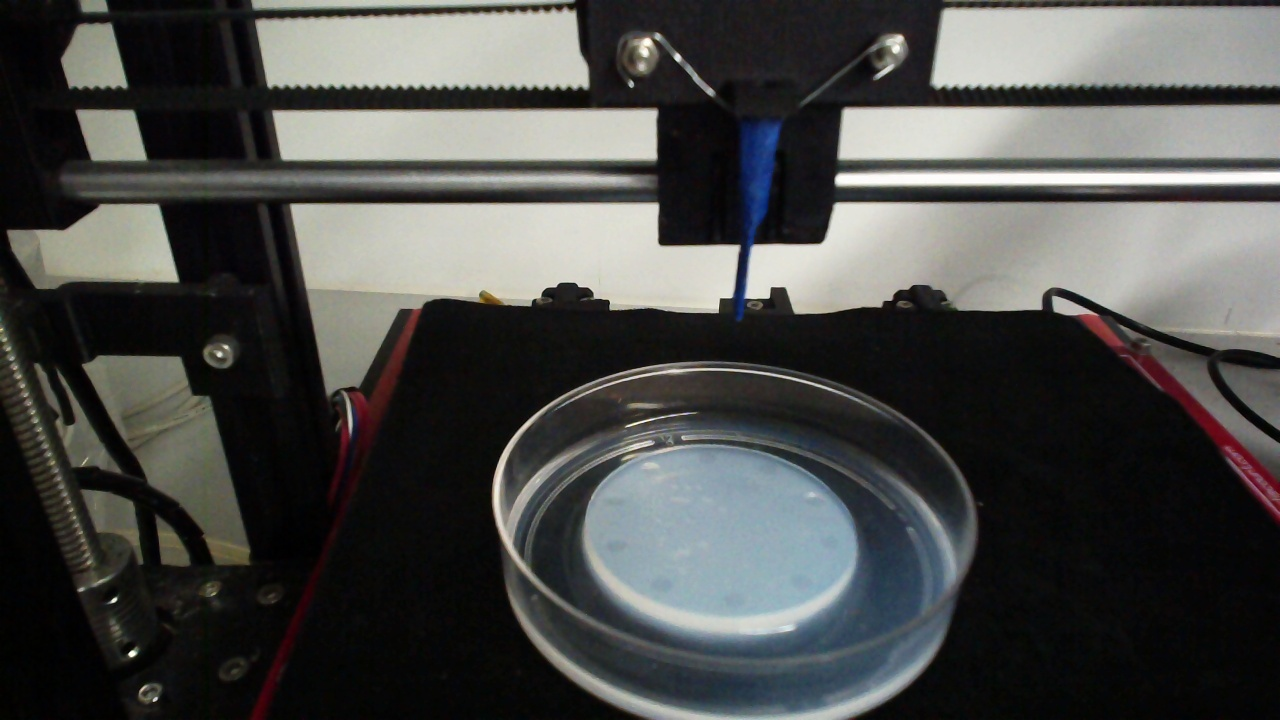groove: (647, 575, 676, 596), (601, 490, 627, 510), (788, 573, 813, 593), (722, 591, 746, 611), (754, 459, 781, 476), (804, 491, 826, 510), (604, 536, 627, 554), (696, 449, 720, 466), (818, 535, 841, 552), (640, 460, 662, 477)
needle: (732, 120, 779, 322)
